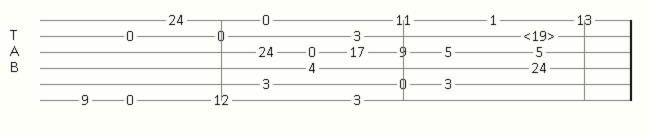0: (126, 93, 138, 107), (126, 29, 138, 43), (217, 29, 229, 43), (262, 13, 274, 27), (308, 45, 320, 59), (399, 77, 411, 91)
1: (489, 13, 501, 27)
11: (395, 13, 415, 27)
12: (213, 93, 233, 107)
13: (576, 13, 596, 27)
17: (349, 45, 369, 59)
24: (168, 13, 188, 27), (258, 45, 278, 59), (531, 61, 551, 75)
3: (262, 77, 274, 91), (353, 93, 365, 107), (353, 29, 365, 43), (444, 77, 456, 91)
4: (308, 61, 320, 75)
5: (444, 45, 456, 59), (535, 45, 547, 59)
9: (81, 93, 93, 107), (399, 45, 411, 59)
harmonic: (523, 29, 559, 43)
